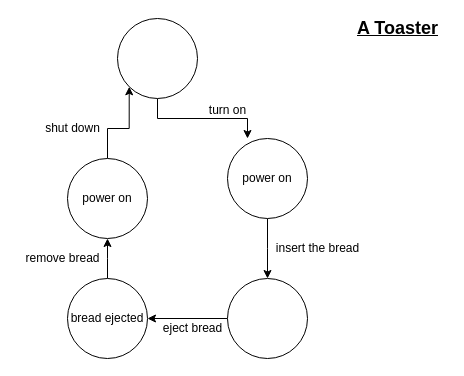
Image size: 464x376. Some labels were removed from this diagram. The centre of each missing label's shape, as x and y in pixels:
toasting: (267,318)
waiting: (157,58)
